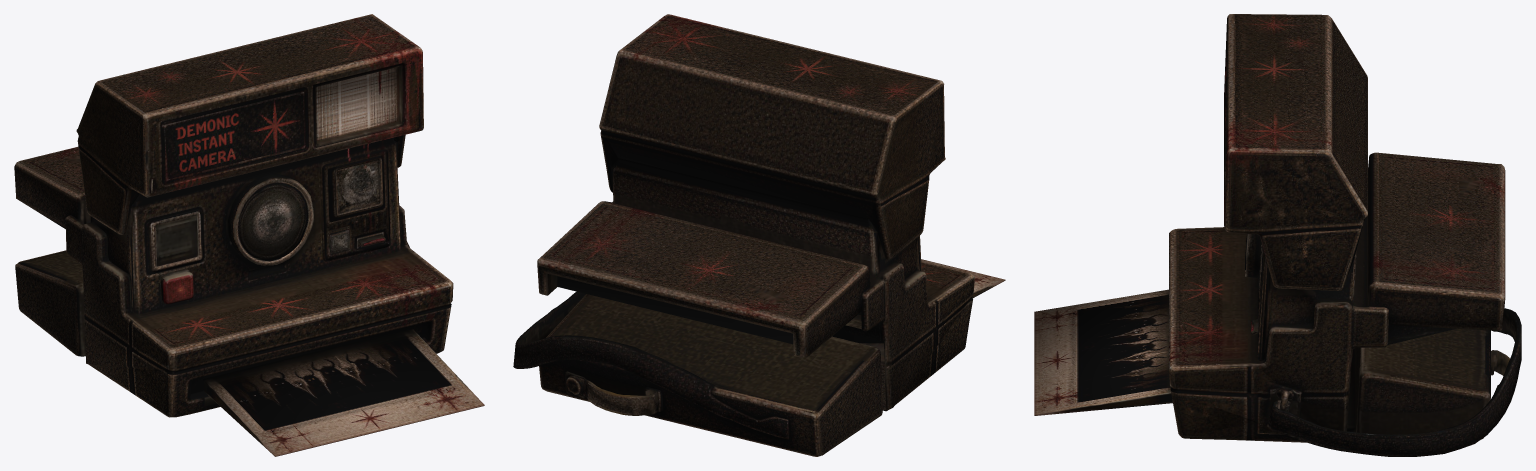
The model's file is CamaraInstantanea.glb.
3 renders of one model, left to right at view 1: azimuth 30°, elevation 25°; view 2: azimuth 150°, elevation 25°; view 3: azimuth 270°, elevation 25°, orthographic.
Parts seen in each view (by area): view 1: tripo_node_1f82bd0d-f415-402b-869e-b63f93aa272f; view 2: tripo_node_1f82bd0d-f415-402b-869e-b63f93aa272f; view 3: tripo_node_1f82bd0d-f415-402b-869e-b63f93aa272f.
Boxes of the visible parts, box(x1,y1,x2,y2) form: tripo_node_1f82bd0d-f415-402b-869e-b63f93aa272f: box(14, 14, 484, 456); tripo_node_1f82bd0d-f415-402b-869e-b63f93aa272f: box(513, 14, 1005, 456); tripo_node_1f82bd0d-f415-402b-869e-b63f93aa272f: box(1034, 14, 1521, 456).
Bounding box in the file's own units: 0.7871 × 0.666 × 0.998.
Materials: 1 (1 with a texture image).
